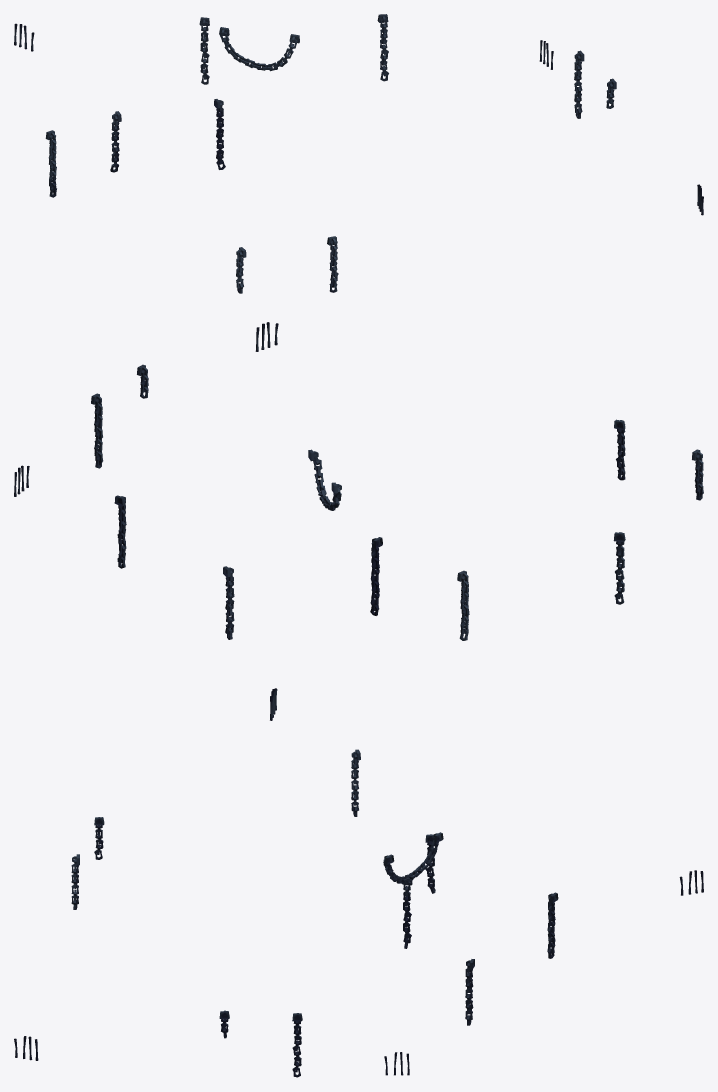
File: Iron_01.FBX
3 renders of one model, top to bottom at view 1: azimuth 30°, elevation 25°; view 2: azimuth 150°, elevation 25°; view 3: azimuth 270°, elevation 25°, orthographic. The views are drawn at different scales.
Parts seen in each view (by area): view 1: Iron_01; view 2: Iron_01; view 3: Iron_01.
Part boxes in pixels (x1,y1,x2,y2): Iron_01: (14, 14, 703, 293); Iron_01: (14, 322, 703, 720); Iron_01: (14, 749, 703, 1077).
Size of the model in its own units: 34.18 by 7.81 by 39.45.
